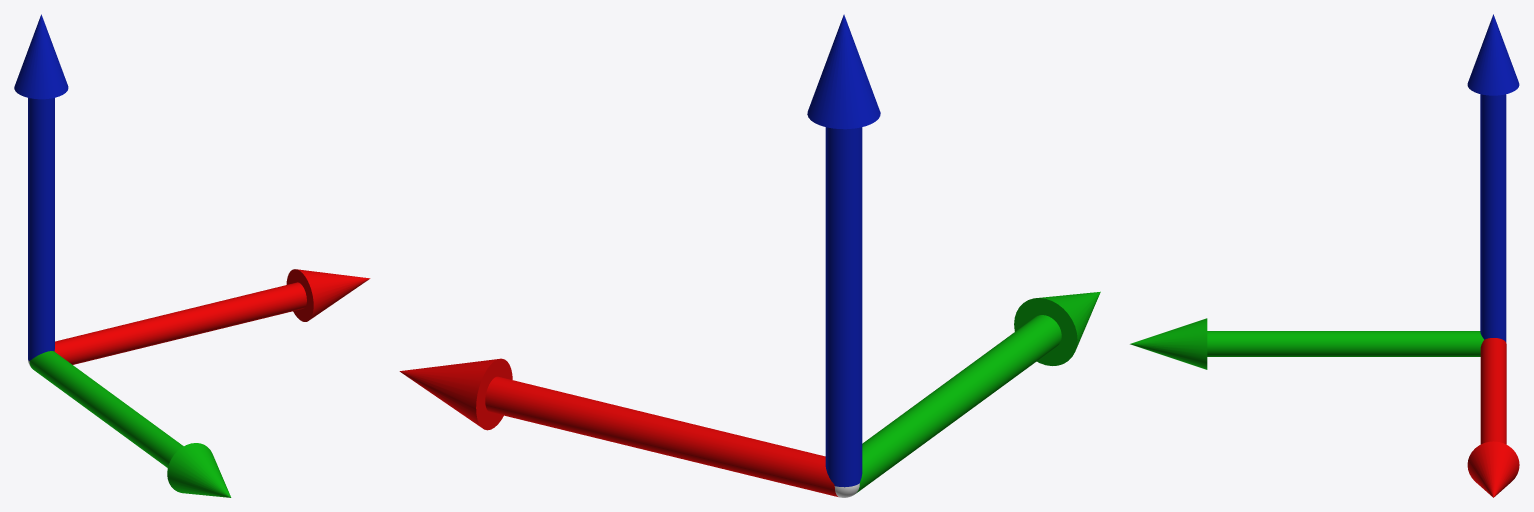
The model's file is xyz_axis.obj.
3 views of the same model, side by side, from view 1: azimuth 30°, elevation 25°; view 2: azimuth 150°, elevation 25°; view 3: azimuth 270°, elevation 25° (orthographic). The views are drawn at different scales.
Parts seen in each view (by area): view 1: Object_5, Object_3, Object_4; view 2: Object_5, Object_3, Object_4; view 3: Object_4, Object_5, Object_3.
Boxes of the visible parts, left/top/right/bottom form: Object_5: left=14, top=14, right=68, bottom=360; Object_3: left=54, top=269, right=370, bottom=364; Object_4: left=29, top=351, right=231, bottom=497; Object_5: left=807, top=14, right=880, bottom=487; Object_3: left=399, top=358, right=837, bottom=496; Object_4: left=856, top=291, right=1100, bottom=493; Object_4: left=1130, top=318, right=1483, bottom=369; Object_5: left=1467, top=14, right=1519, bottom=342; Object_3: left=1467, top=338, right=1519, bottom=497.
Size of the model in its own units: 30.01 by 30.02 by 30.01.
